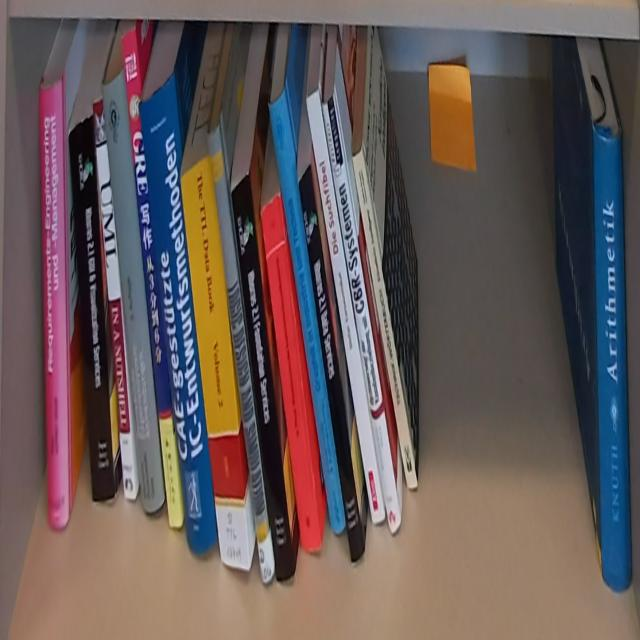Book Spine: (139, 75, 219, 559), (303, 84, 387, 520), (268, 87, 347, 538), (322, 98, 402, 539), (179, 153, 253, 576), (207, 131, 275, 587), (122, 28, 182, 532), (100, 67, 166, 515), (297, 167, 365, 562), (231, 175, 295, 579), (353, 146, 419, 492), (259, 193, 322, 550), (591, 128, 633, 595), (67, 114, 115, 503), (93, 100, 137, 501), (39, 79, 69, 530)
